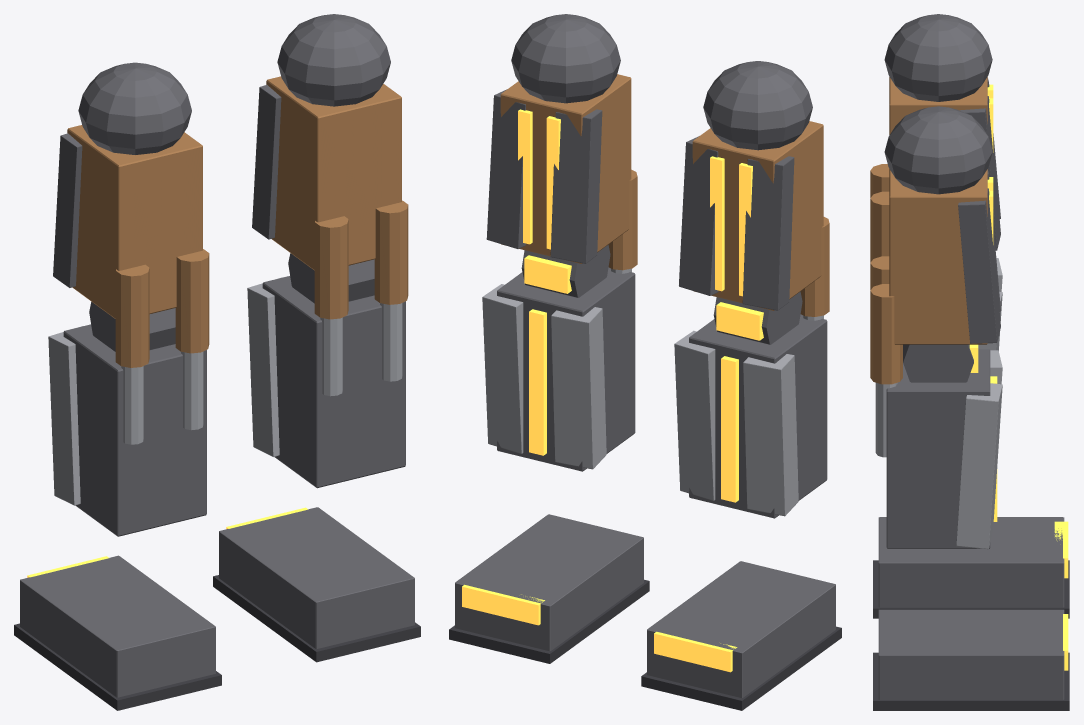
The model's file is surge-stomp.glb.
The picture shows the model from 3 angles, left to right: view 1: azimuth 30°, elevation 25°; view 2: azimuth 150°, elevation 25°; view 3: azimuth 270°, elevation 25°; orthographic projection. The views are drawn at different scales.
Visible parts, largest first — view 1: shin_r, shin_l, foot_l, foot_r, thigh_l, thigh_r, hip_l, hip_r, greave_r_r, greave_r_l, sleeve.001_l, sleeve.003_r (+12 smaller); view 2: foot_l, foot_r, shin_l, shin_r, thigh_l, thigh_r, greave_r_l, greave_r_r, hip_l, hip_r, tchunk_r_l, tchunk_r_r (+20 smaller); view 3: foot_l, shin_l, foot_r, thigh_l, hip_l, hip_r, greave_l_l, tchunk_l_l, sleeve_l, sole_l, knee_l, thigh_r (+8 smaller).
Part boxes in pixels (x1,y1,x2,y2): shin_r: (63, 324, 206, 536); shin_l: (262, 276, 405, 488); foot_l: (219, 507, 414, 648); foot_r: (20, 555, 215, 697); thigh_l: (266, 76, 401, 270); thigh_r: (67, 125, 202, 318); hip_l: (277, 14, 390, 106); hip_r: (78, 62, 191, 154); greave_r_r: (48, 326, 83, 505); greave_r_l: (247, 277, 282, 456); sleeve.001_l: (314, 216, 348, 319); sleeve.003_r: (115, 264, 149, 367); foot_l: (455, 514, 643, 651); foot_r: (647, 561, 835, 697); shin_l: (497, 267, 635, 471); shin_r: (689, 314, 827, 518); thigh_l: (500, 74, 631, 263); thigh_r: (692, 121, 823, 310); greave_r_l: (551, 307, 606, 469); greave_r_r: (743, 354, 798, 516); hip_l: (511, 14, 620, 103); hip_r: (703, 61, 812, 150); tchunk_r_l: (550, 109, 602, 263); tchunk_r_r: (742, 156, 794, 310); foot_l: (878, 609, 1064, 699); shin_l: (886, 349, 990, 548); foot_r: (878, 517, 1064, 607); thigh_l: (889, 169, 987, 344); hip_l: (884, 106, 992, 194); hip_r: (884, 14, 992, 101); greave_l_l: (956, 383, 1002, 549); tchunk_l_l: (958, 188, 1000, 343); sleeve_l: (870, 284, 902, 384); sole_l: (873, 652, 1069, 710); knee_l: (903, 344, 973, 382); thigh_r: (889, 77, 987, 134).
Size of the model in its own units: 0.6223 by 1.16 by 0.365.
